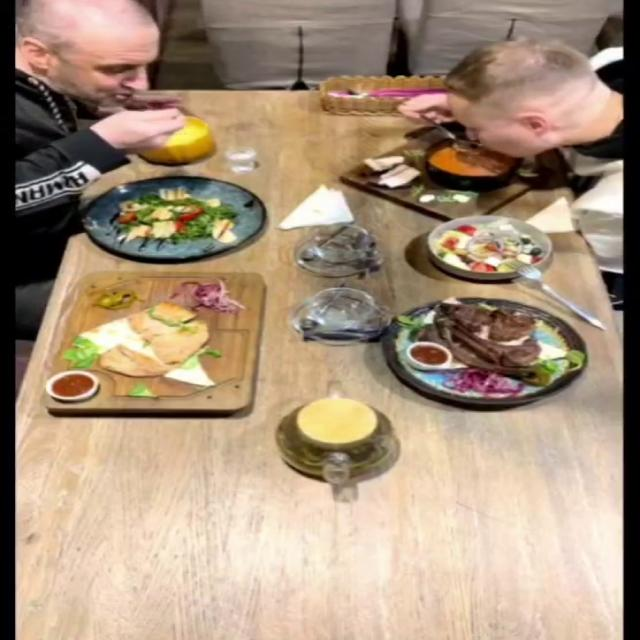alcohol: (202, 135, 274, 169)
meat: (380, 296, 590, 405)
salat: (78, 176, 265, 260), (426, 213, 555, 280)
soup: (335, 130, 569, 222), (137, 115, 214, 163)
tea: (296, 396, 377, 446)
